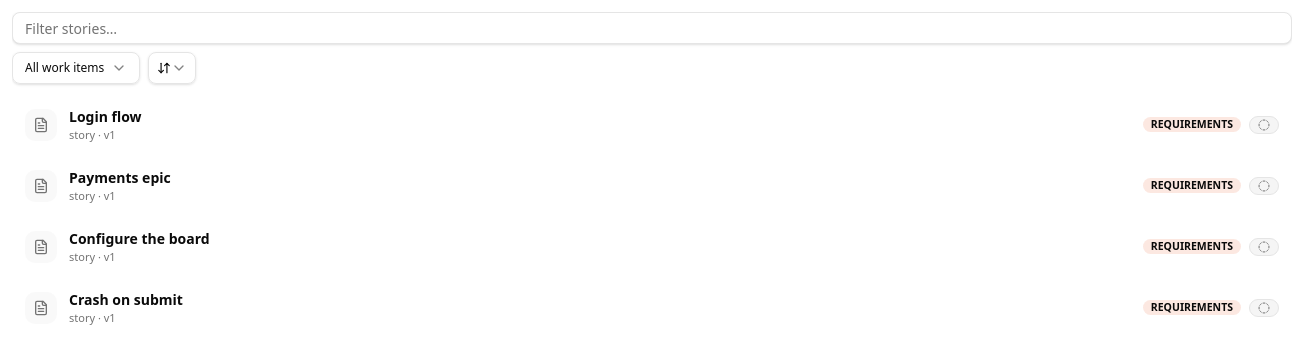
filtering a story list › narrows to one work-item type
The width and height of the screenshot is (1304, 342).
Click the dropdown named "Filter by work item type" at (76,68), box left=12, top=52, right=140, bottom=84
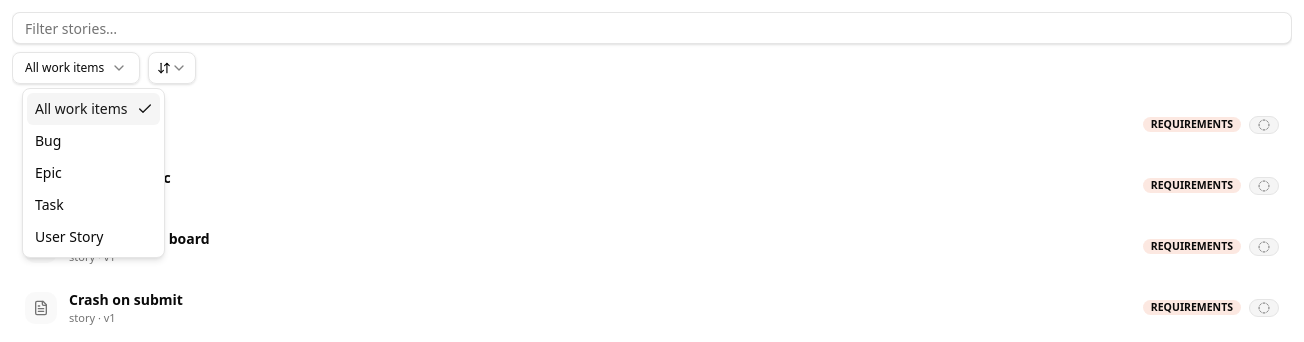
Click the option "Epic" at (48,172), box left=35, top=163, right=62, bottom=182
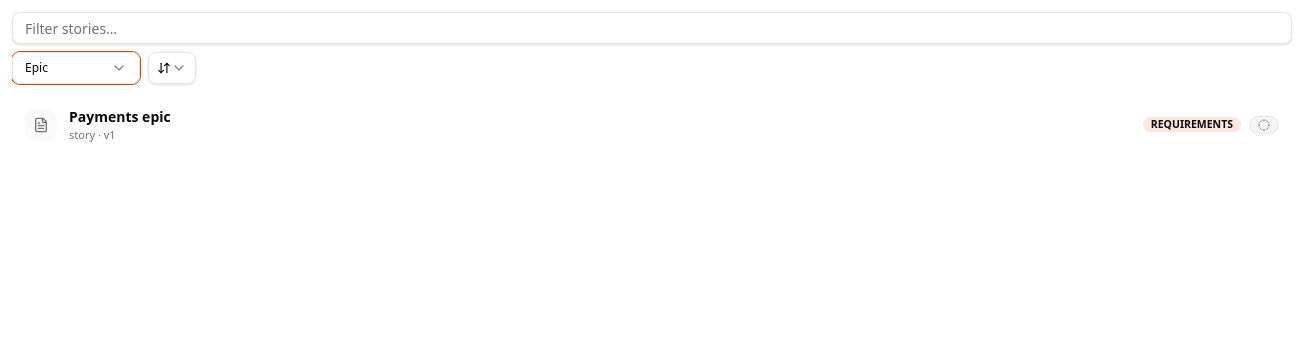
Expected: the text "Payments epic" is shown, left=69, top=107, right=171, bottom=126
Now the button "Login flow" is gone
Now the button "Crash on submit" is gone
